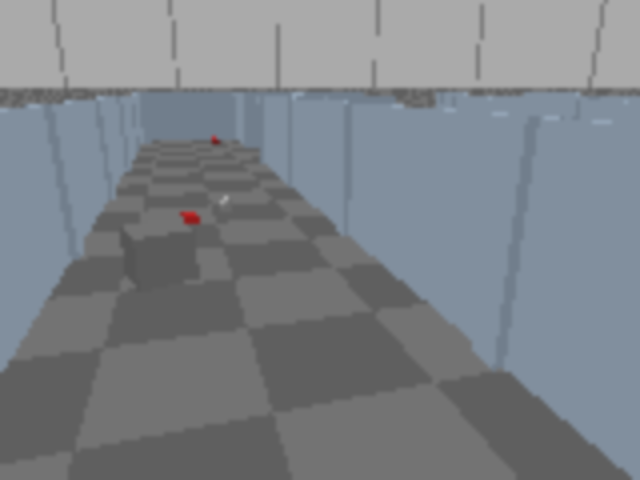obstacle: (119, 218, 199, 293)
puck: (215, 196, 236, 215)
